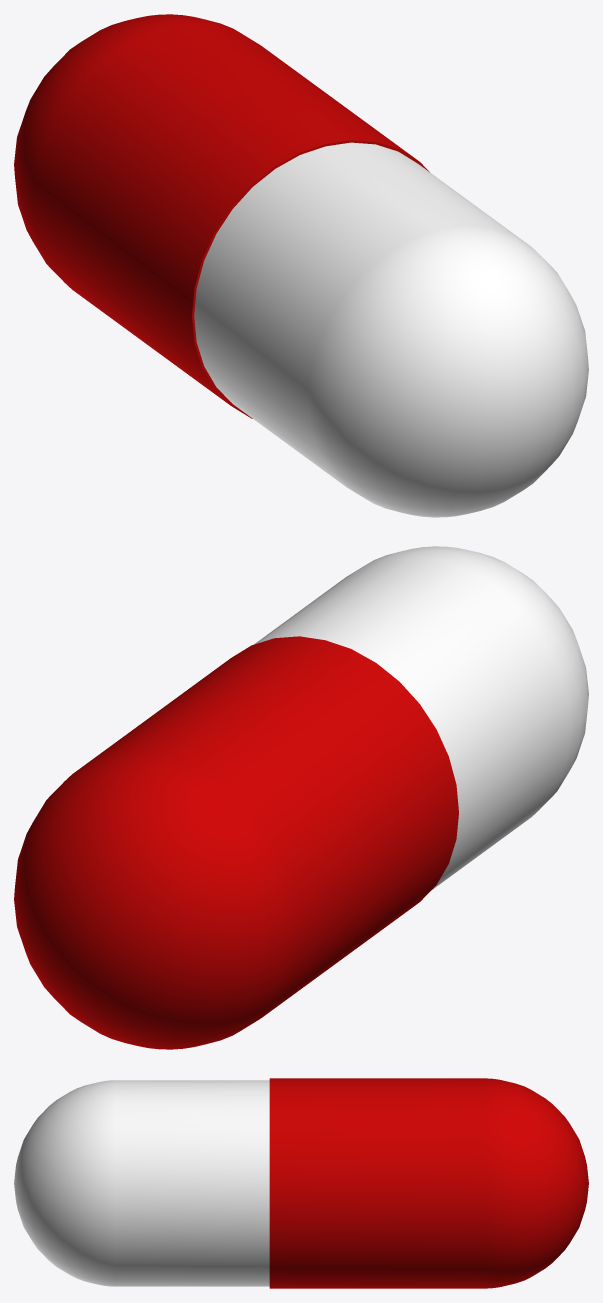
Rendered from Capsule Pills.fbx.
3 renders of one model, top to bottom at view 1: azimuth 30°, elevation 25°; view 2: azimuth 150°, elevation 25°; view 3: azimuth 270°, elevation 25°, orthographic. The views are drawn at different scales.
Visible parts, largest first — view 1: Capsule Pills; view 2: Capsule Pills; view 3: Capsule Pills.
Boxes of the visible parts, x1,y1,x2,y2 form: Capsule Pills: [14, 14, 588, 517]; Capsule Pills: [14, 546, 588, 1049]; Capsule Pills: [14, 1078, 588, 1288].
Size of the model in its own units: 2.03 by 2.03 by 5.56.
